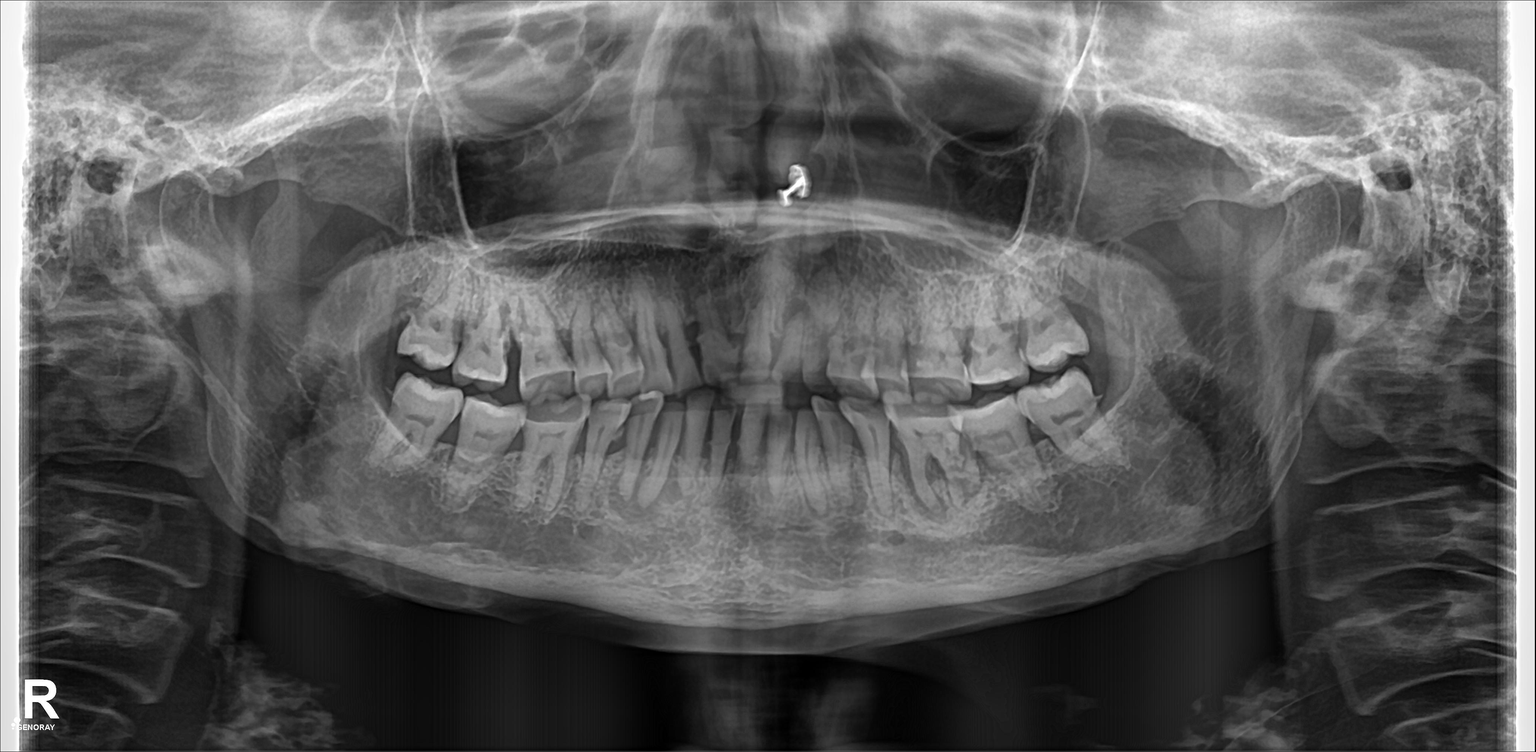Impacted Third Molar: (391, 374, 457, 460)
Missing Tooth: (1073, 272, 1120, 352)
